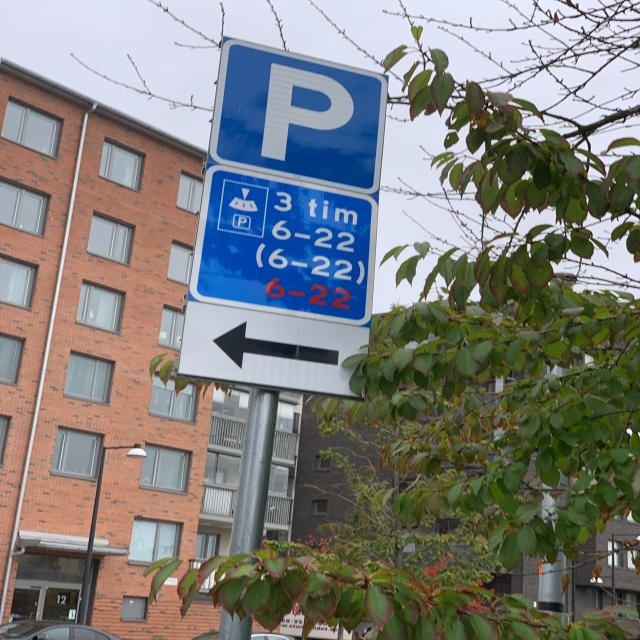lastplats: (211, 38, 388, 195)
